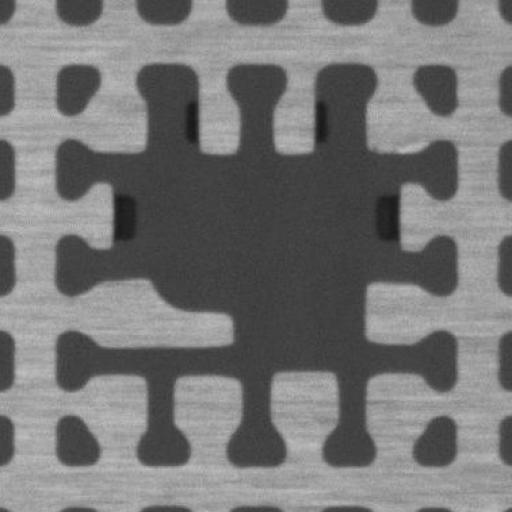NO_DIE: (57, 62, 464, 469)
